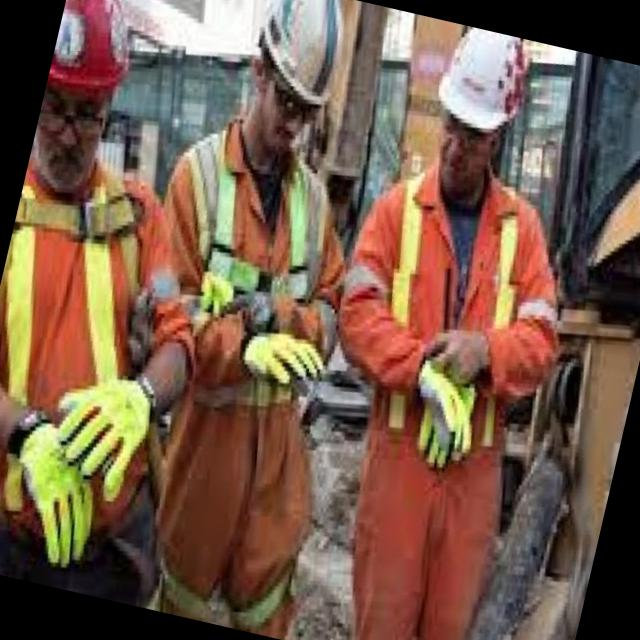gloved: (28, 353, 170, 518), (0, 396, 121, 582), (391, 343, 495, 480), (230, 316, 330, 398)
not-gloved: (418, 314, 502, 394)
